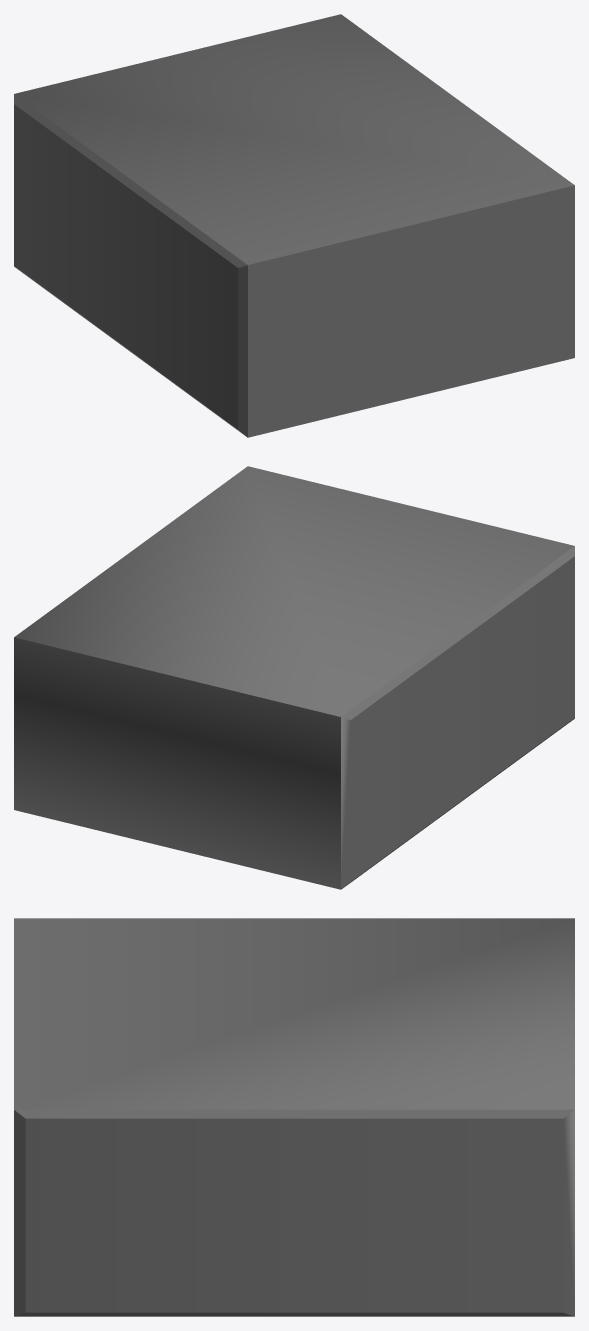
The model's file is Itr_Sofa_Inside_03.FBX.
The picture shows the model from 3 angles, top to bottom: view 1: azimuth 30°, elevation 25°; view 2: azimuth 150°, elevation 25°; view 3: azimuth 270°, elevation 25°; orthographic projection. The views are drawn at different scales.
Visible parts, largest first — view 1: Itr_Sofa_Inside_03; view 2: Itr_Sofa_Inside_03; view 3: Itr_Sofa_Inside_03.
Part boxes in pixels (x1,y1,x2,y2): Itr_Sofa_Inside_03: (14,14,574,437); Itr_Sofa_Inside_03: (14,466,574,889); Itr_Sofa_Inside_03: (14,918,574,1316).
Bounding box in the file's own units: 25.04 × 12.29 × 30.18.
